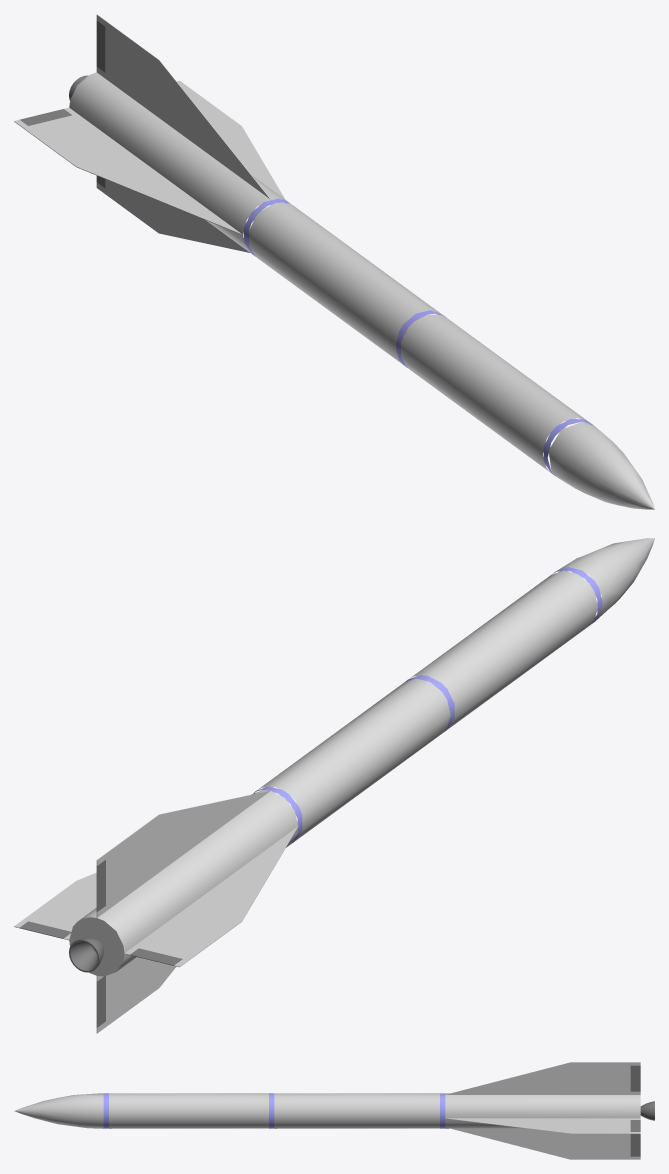
File: player_missile.glb
The picture shows the model from 3 angles, top to bottom: view 1: azimuth 30°, elevation 25°; view 2: azimuth 150°, elevation 25°; view 3: azimuth 270°, elevation 25°; orthographic projection. The views are drawn at different scales.
Visible parts, largest first — view 1: Material2 (×3); view 2: Material2 (×3); view 3: Material2 (×3).
Part boxes in pixels (<box>): Material2 (×3): <box>14,14,654,509</box>; Material2 (×3): <box>14,538,654,1033</box>; Material2 (×3): <box>14,1062,654,1159</box>.
Size of the model in its own units: 23.62 by 23.62 by 141.
